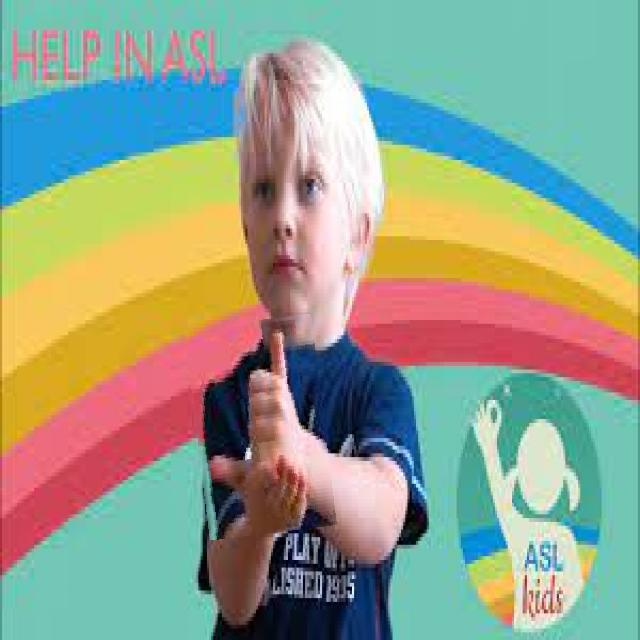Help: (190, 316, 331, 537)
